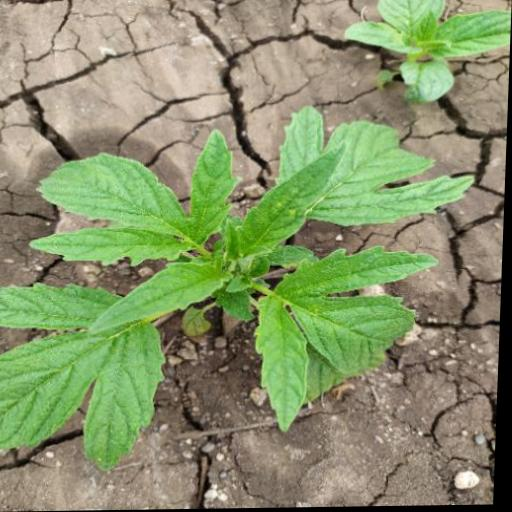crop: (0, 142, 472, 481), (341, 0, 512, 113)
